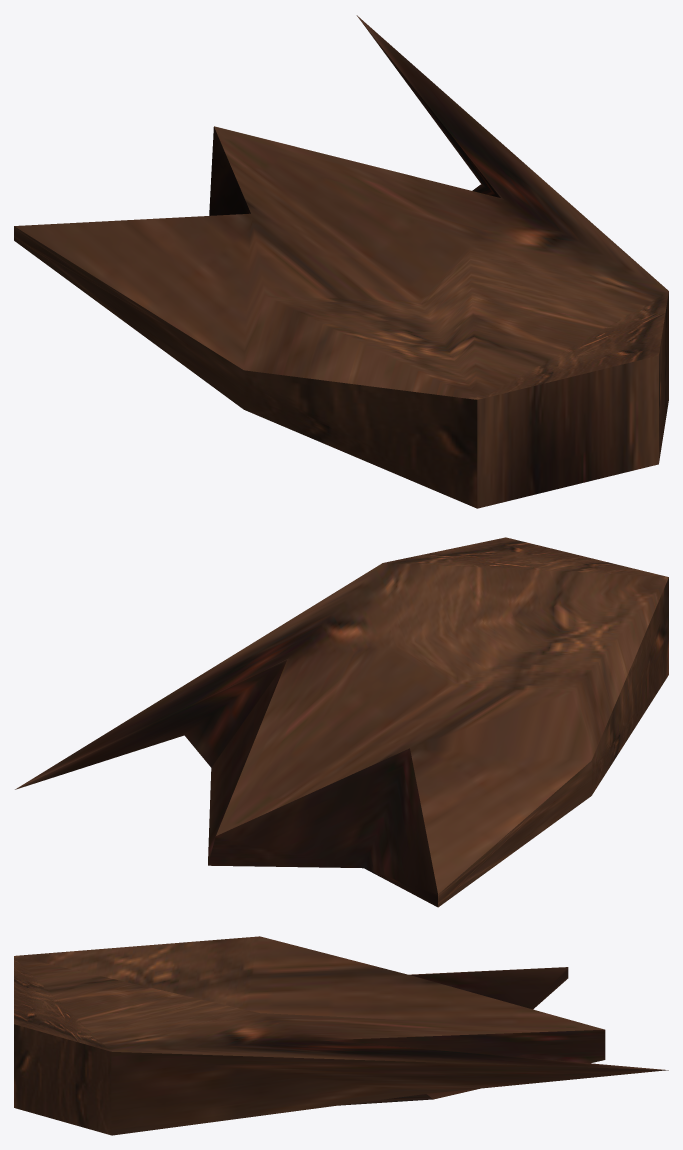
File: PecaPonte1.fbx
The picture shows the model from 3 angles, top to bottom: view 1: azimuth 30°, elevation 25°; view 2: azimuth 150°, elevation 25°; view 3: azimuth 270°, elevation 25°; orthographic projection. The views are drawn at different scales.
Parts seen in each view (by area): view 1: pCube6; view 2: pCube6; view 3: pCube6.
Part boxes in pixels (x1=…): pCube6: x1=14, y1=15, x2=668, y2=508; pCube6: x1=15, y1=537, x2=668, y2=907; pCube6: x1=14, y1=936, x2=668, y2=1135.
Bounding box in the file's own units: 0.9545 × 0.2438 × 1.73.
